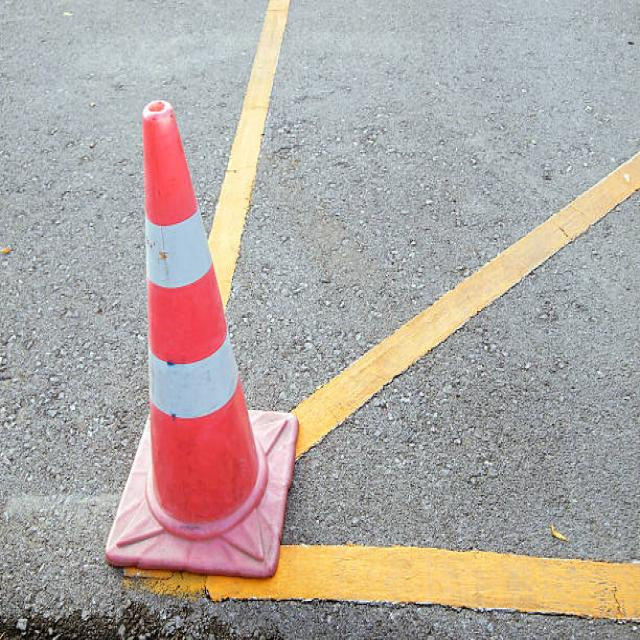Traffic Cone: (77, 72, 316, 603)
